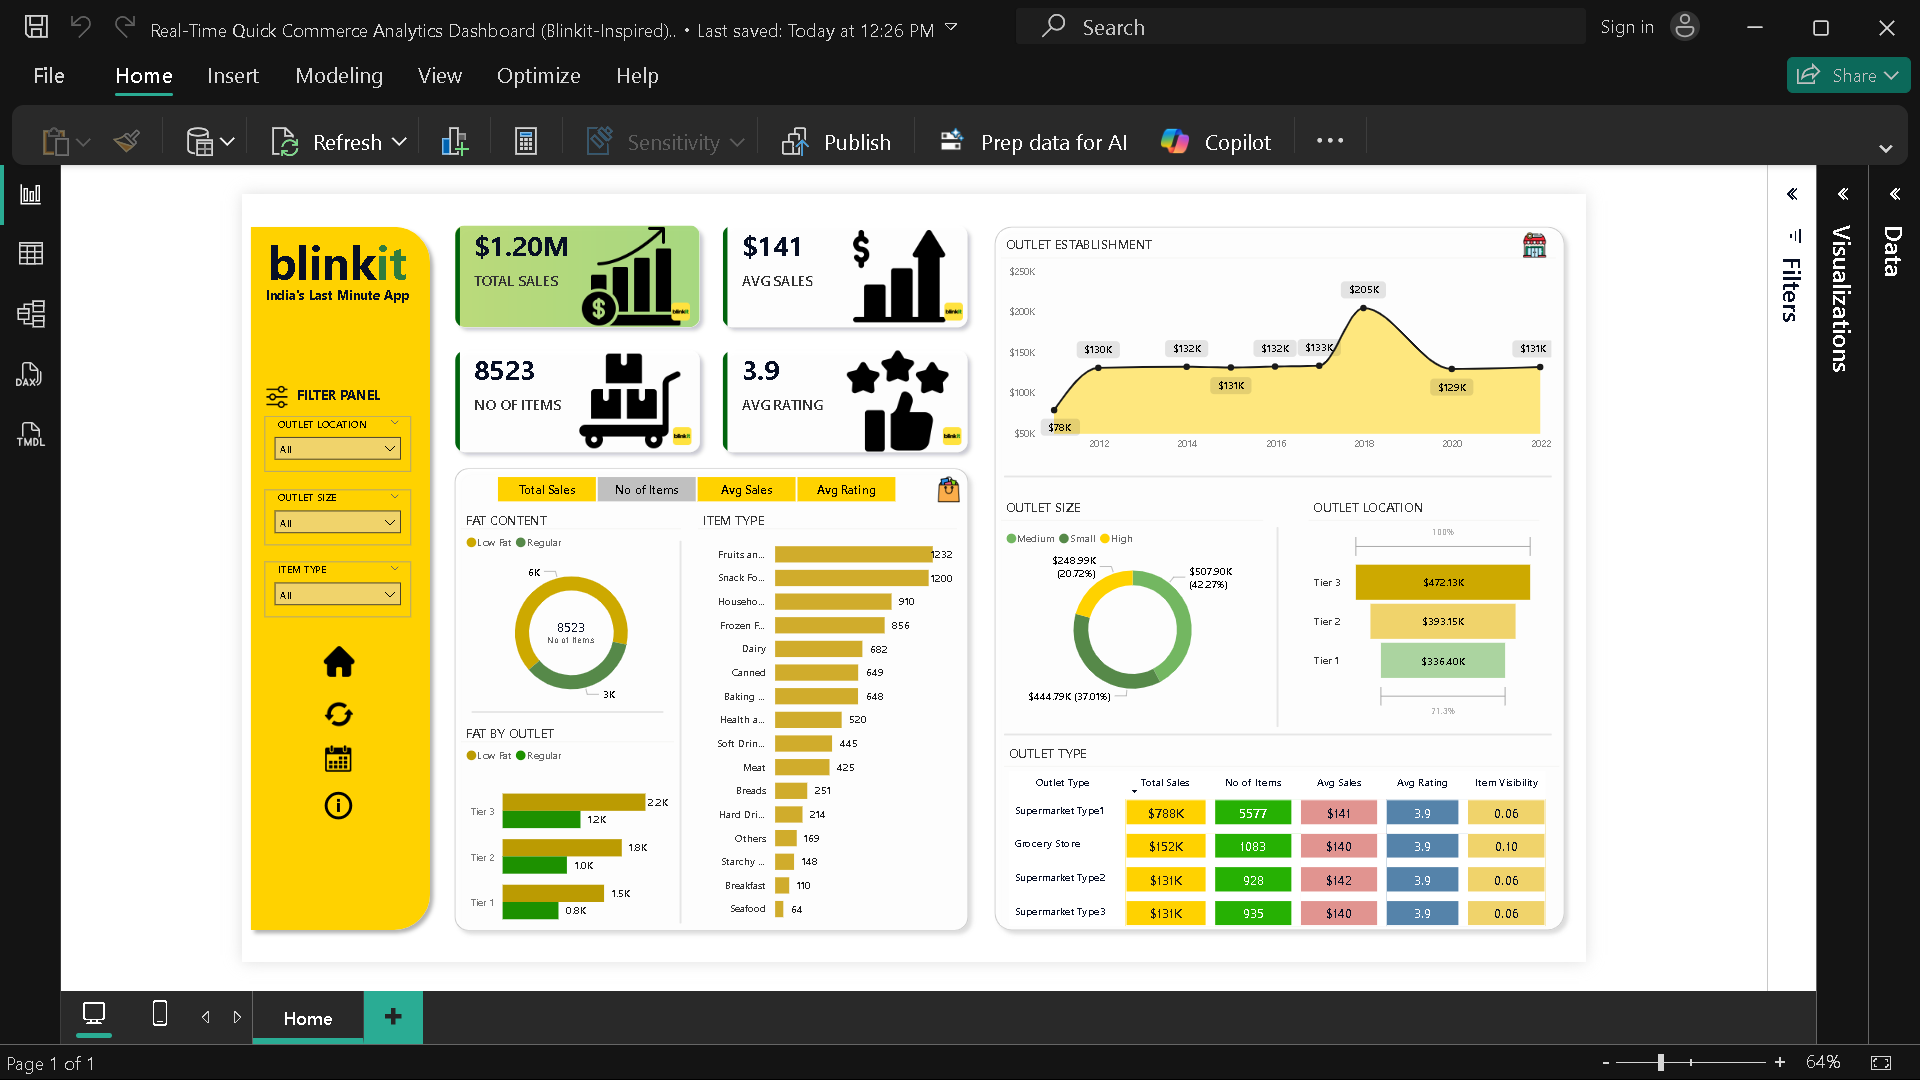

This screenshot's page, from the dashboard's own definition file:
{"tool":"powerbi","page":{"name":"Home","canvas":[1400,800],"ordinal":0},"visuals":[{"type":"shape","box":[0,25.3,205,750.7],"z":0},{"type":"textbox","box":[0,33,198.1,82.1],"z":1000},{"type":"cardVisual","fields":{"Data":["BlinkIT Grocery Data.Total Sum Sales","BlinkIT Grocery Data.Average Sales","BlinkIT Grocery Data.No of Items","BlinkIT Grocery Data.Avg Rating"]},"box":[204.8,15.8,569.7,270.8],"z":2000},{"type":"image","box":[71.4,466.3,58.7,42.6],"z":3000},{"type":"image","box":[74.4,521.1,52.1,39.7],"z":4000},{"type":"image","box":[81.8,568.8,38,39.1],"z":5000},{"type":"shape","box":[774.5,25.5,611.7,751.1],"z":6000},{"type":"areaChart","title":"OUTLET ESTABLISHMENT","fields":{"Y":["BlinkIT Grocery Data.Total Sum Sales"],"Category":["BlinkIT Grocery Data.Outlet Establishment Year2"]},"box":[790.6,42.5,578.3,234],"z":7000},{"type":"textbox","box":[0,89.6,198.1,34],"z":8000},{"type":"donutChart","title":"OUTLET SIZE","fields":{"Category":["BlinkIT Grocery Data.Outlet Size"],"Y":["BlinkIT Grocery Data.Total Sum Sales"]},"box":[790.6,316,273.6,224.5],"z":9000},{"type":"funnel","title":"OUTLET LOCATION","fields":{"Category":["BlinkIT Grocery Data.Outlet Location Type"],"Y":["BlinkIT Grocery Data.Total Sum Sales"]},"box":[1110.4,316,240.6,234],"z":10000},{"type":"pivotTable","title":"OUTLET TYPE","fields":{"Rows":["BlinkIT Grocery Data.Outlet Type"],"Values":["BlinkIT Grocery Data.Total Sum Sales","BlinkIT Grocery Data.No of Items","BlinkIT Grocery Data.Average Sales","BlinkIT Grocery Data.Avg Rating","Avg(BlinkIT Grocery Data.Item Visibility)"]},"box":[793.6,572.3,578.7,197.1],"z":11000},{"type":"shape","box":[793.4,284.9,570.8,19.8],"z":12000},{"type":"shape","box":[1064.2,346.2,29.2,208.5],"z":13000},{"type":"shape","box":[212.8,276.6,553.2,500],"z":14000},{"type":"donutChart","title":"FAT CONTENT","fields":{"Y":["BlinkIT Grocery Data.No of Items"],"Category":["BlinkIT Grocery Data.Item Fat Content"]},"box":[228.3,330.2,229.2,213.2],"z":15000},{"type":"shape","box":[793.4,553.8,570.8,19.8],"z":16000},{"type":"cardVisual","fields":{"Data":["BlinkIT Grocery Data.No of Items"]},"box":[291.9,428.1,102,54.5],"z":17000},{"type":"slicer","fields":{"Values":["Metric.Metric"]},"box":[240,287.5,464.2,39.6],"z":18000},{"type":"barChart","title":"ITEM TYPE","fields":{"Y":["BlinkIT Grocery Data.No of Items"],"Category":["BlinkIT Grocery Data.Item Type"]},"box":[475.3,330.2,269.8,438.1],"z":19000},{"type":"shape","box":[442.5,360.4,29.2,399.1],"z":20000},{"type":"clusteredBarChart","title":"FAT BY OUTLET","fields":{"Y":["BlinkIT Grocery Data.No of Items"],"Category":["BlinkIT Grocery Data.Outlet Location Type"],"Series":["BlinkIT Grocery Data.Item Fat Content"]},"box":[228.3,550.9,221.7,229.2],"z":21000},{"type":"shape","box":[239.6,529.2,200,19.8],"z":22000},{"type":"image","box":[725.5,108.5,33,29.2],"z":23000},{"type":"image","box":[723.6,237.7,33,29.2],"z":24000},{"type":"image","box":[442.5,237.7,33,29.2],"z":25000},{"type":"image","box":[440.6,108.5,33,29.2],"z":26000},{"type":"image","box":[715.6,289.2,41.3,36.9],"z":27000},{"type":"image","box":[1327.5,33.4,36,40.4],"z":28000},{"type":"slicer","fields":{"Values":["BlinkIT Grocery Data.Outlet Location Type"]},"box":[23.7,231.2,153,58],"z":29000},{"type":"slicer","fields":{"Values":["BlinkIT Grocery Data.Outlet Size"]},"box":[23.7,307.7,153,58],"z":30000},{"type":"slicer","fields":{"Values":["BlinkIT Grocery Data.Item Type"]},"box":[23.7,382.4,153,58],"z":31000},{"type":"textbox","box":[36.8,193.4,126.4,31.1],"z":32000},{"type":"image","box":[18.9,184,34.9,53.8],"z":33000},{"type":"actionButton","box":[80.6,616.6,38.5,39.7],"z":38000}]}

Visuals, with their boxes on the page's 1400x800 design canvas (x1, y1, x2, y2). These are canvas units, not pixel positions in the 1920x1080 screenshot, which may show the page scaled, cropped or inside an application window:
shape: [0,25,205,776]
textbox: [0,33,198,115]
cardVisual - BlinkIT Grocery Data.Total Sum Sales x BlinkIT Grocery Data.Average Sales: [205,16,774,287]
image: [71,466,130,509]
image: [74,521,126,561]
image: [82,569,120,608]
shape: [774,26,1386,777]
"OUTLET ESTABLISHMENT" areaChart: [791,42,1369,276]
textbox: [0,90,198,124]
"OUTLET SIZE" donutChart: [791,316,1064,540]
"OUTLET LOCATION" funnel: [1110,316,1351,550]
"OUTLET TYPE" pivotTable: [794,572,1372,769]
shape: [793,285,1364,305]
shape: [1064,346,1093,555]
shape: [213,277,766,777]
"FAT CONTENT" donutChart: [228,330,458,543]
shape: [793,554,1364,574]
cardVisual - BlinkIT Grocery Data.No of Items: [292,428,394,483]
slicer - Metric.Metric: [240,288,704,327]
"ITEM TYPE" barChart: [475,330,745,768]
shape: [442,360,472,760]
"FAT BY OUTLET" clusteredBarChart: [228,551,450,780]
shape: [240,529,440,549]
image: [726,108,758,138]
image: [724,238,757,267]
image: [442,238,476,267]
image: [441,108,474,138]
image: [716,289,757,326]
image: [1328,33,1364,74]
slicer - BlinkIT Grocery Data.Outlet Location Type: [24,231,177,289]
slicer - BlinkIT Grocery Data.Outlet Size: [24,308,177,366]
slicer - BlinkIT Grocery Data.Item Type: [24,382,177,440]
textbox: [37,193,163,224]
image: [19,184,54,238]
actionButton: [81,617,119,656]
